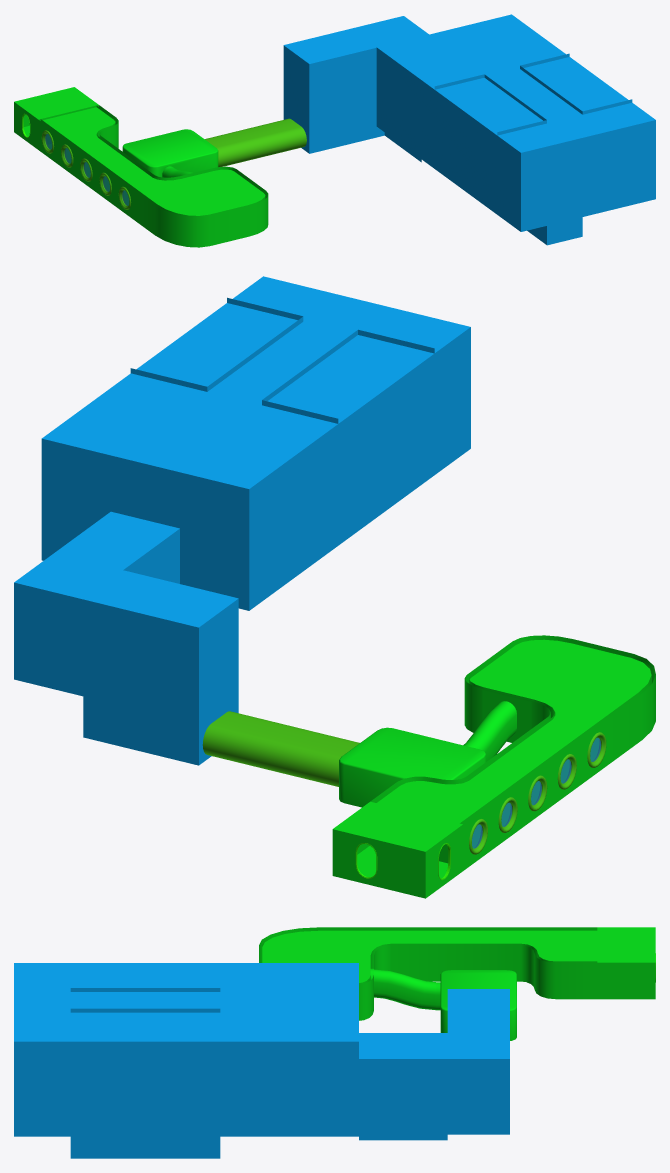
The model's file is HouseParts.fbx.
3 views of the same model, one above another, from view 1: azimuth 30°, elevation 25°; view 2: azimuth 150°, elevation 25°; view 3: azimuth 270°, elevation 25° (orthographic). The views are drawn at different scales.
Parts seen in each view (by area): view 1: HousePart2, SectionOne, MiddleHallway; view 2: HousePart2, SectionOne, MiddleHallway; view 3: HousePart2, SectionOne, MiddleHallway.
Part boxes in pixels (x1=…): HousePart2: x1=283, y1=14, x2=655, y2=245; SectionOne: x1=38, y1=105, x2=306, y2=247; MiddleHallway: x1=14, y1=87, x2=98, y2=149; HousePart2: x1=14, y1=276, x2=470, y2=765; SectionOne: x1=202, y1=635, x2=655, y2=870; MiddleHallway: x1=332, y1=801, x2=463, y2=898; HousePart2: x1=14, y1=963, x2=509, y2=1158; SectionOne: x1=259, y1=927, x2=597, y2=1040; MiddleHallway: x1=597, y1=927, x2=655, y2=999.
Bounding box in the file's own units: 3221 × 1065 × 3993.
